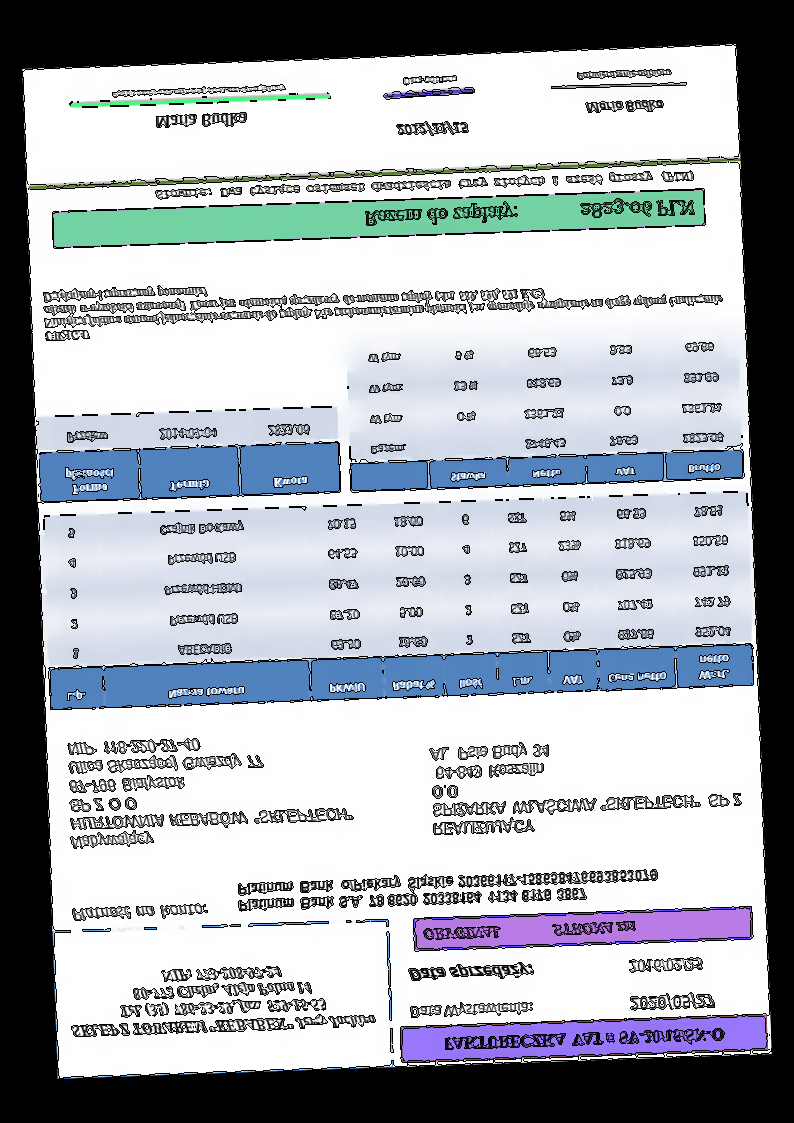Table: (41, 488, 755, 713), (342, 325, 745, 494), (36, 405, 343, 505)
TextBox: (41, 264, 725, 346), (66, 731, 357, 853), (427, 735, 746, 838), (66, 956, 377, 1043), (236, 863, 663, 915), (151, 168, 695, 203), (359, 191, 697, 233), (442, 1022, 731, 1057), (420, 917, 639, 944), (70, 901, 208, 925), (109, 83, 290, 101), (405, 999, 535, 1022), (406, 961, 536, 982), (627, 989, 718, 1015), (152, 110, 251, 132), (574, 66, 674, 84), (583, 97, 667, 116), (627, 956, 705, 975), (393, 120, 471, 139), (400, 73, 461, 89)
